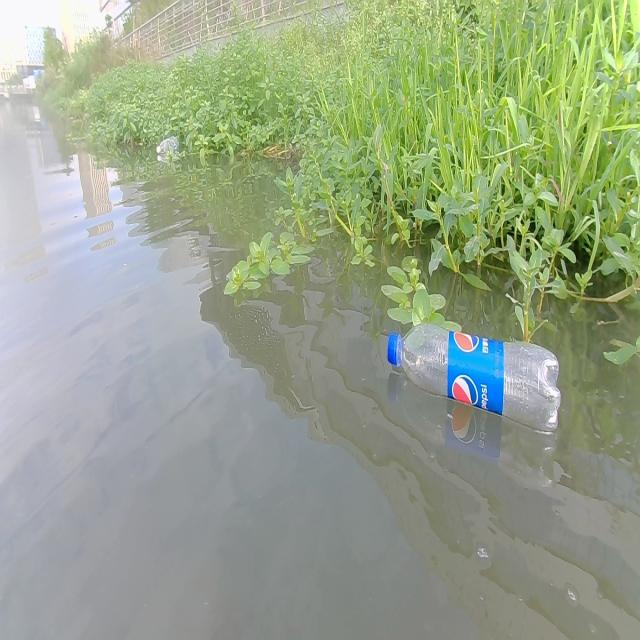bottle: (386, 308, 560, 434), (154, 135, 178, 157)
